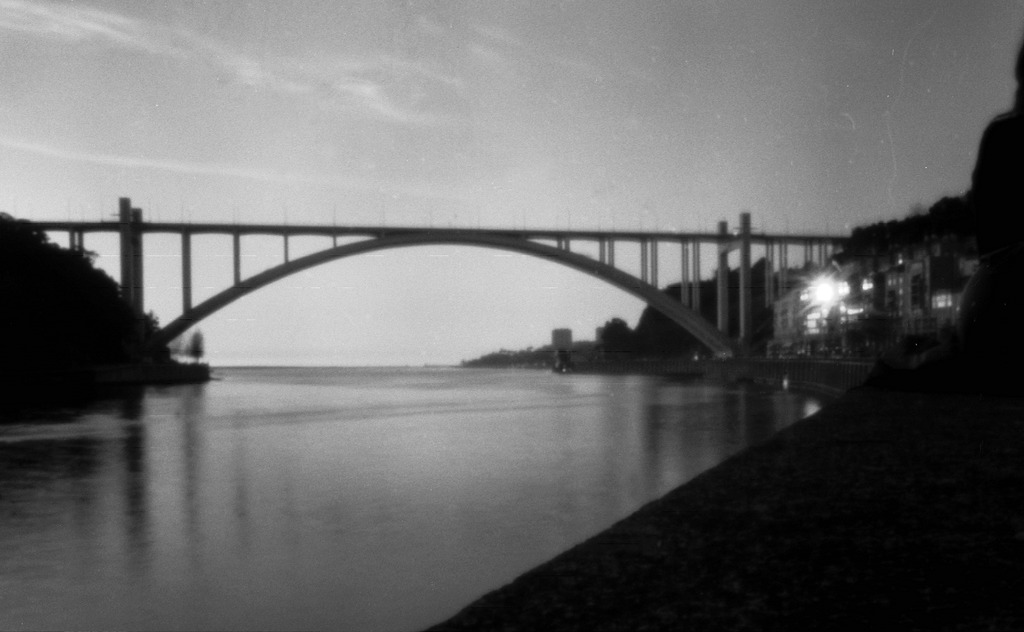arrabida: (16, 195, 856, 363)
